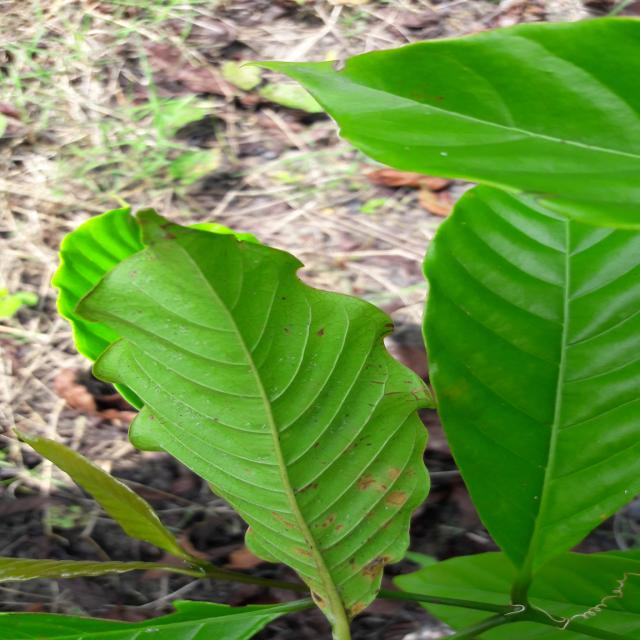Enfermedad-Roya: (52, 209, 432, 640)
